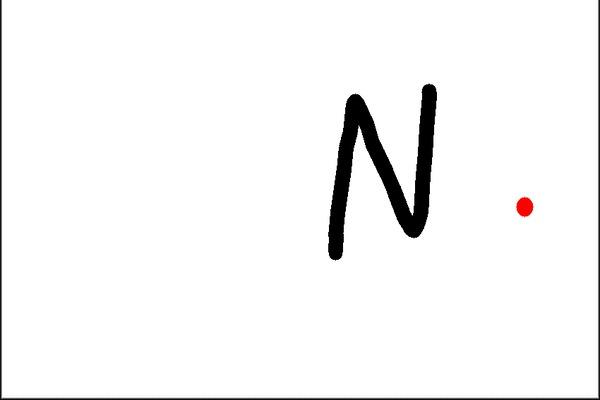N: (319, 78, 441, 266)
